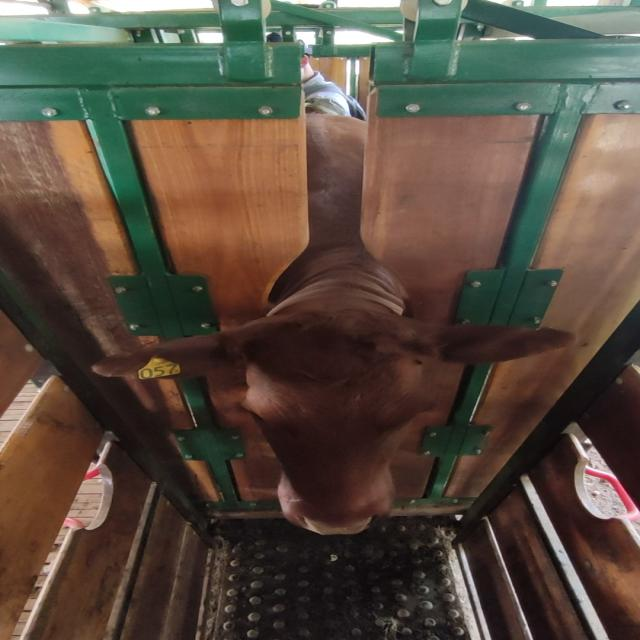cowFace: (245, 314, 430, 536)
